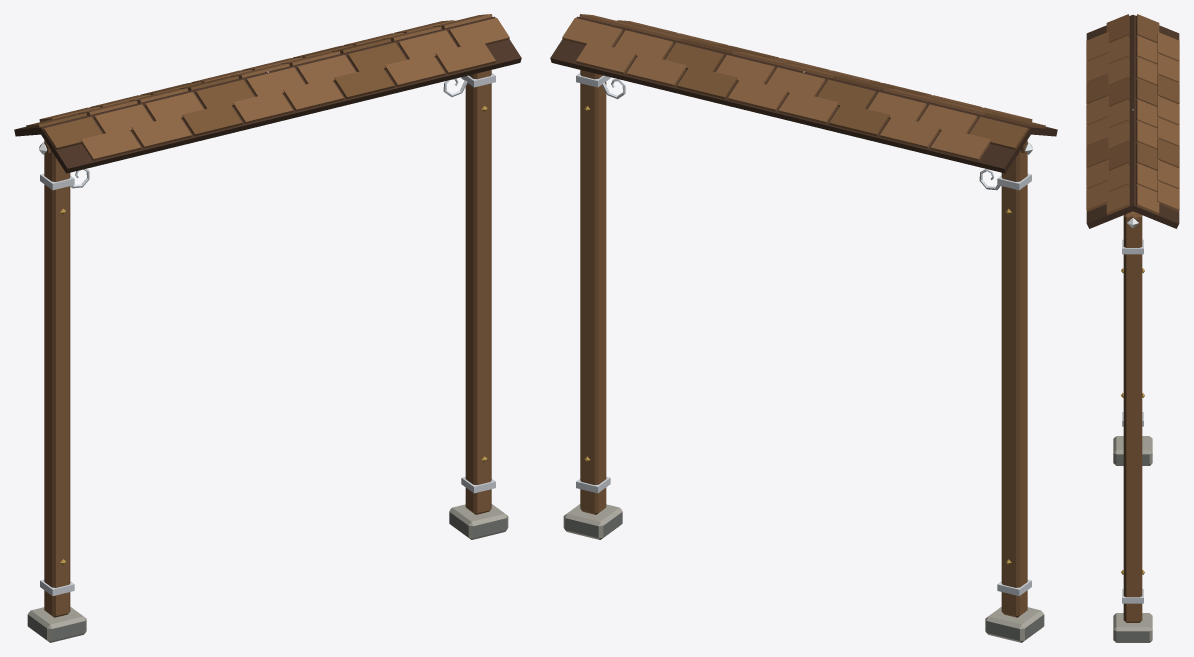
The model's file is SignLedgerFrame.obj.
3 renders of one model, left to right at view 1: azimuth 30°, elevation 25°; view 2: azimuth 150°, elevation 25°; view 3: azimuth 270°, elevation 25°, orthographic. The views are drawn at different scales.
Bounding box in the file's own units: 10.46 × 11.05 × 2.14.
